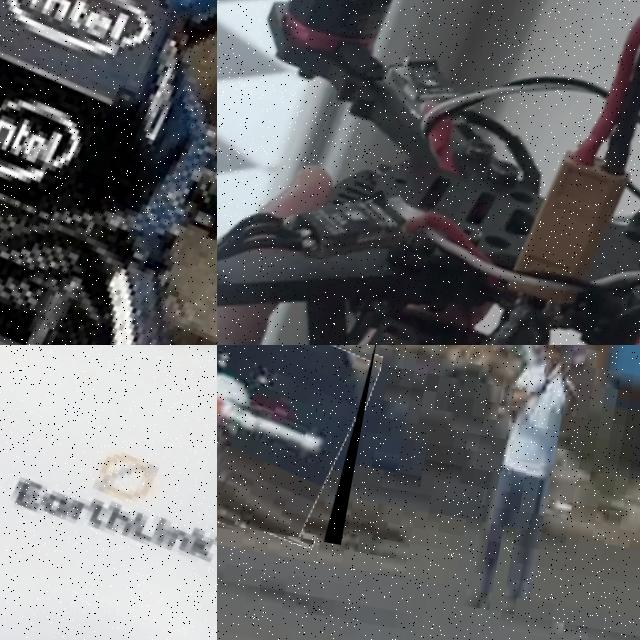0: (217, 345, 379, 544)
drone: (217, 0, 640, 345), (0, 0, 217, 345), (0, 345, 217, 640)
